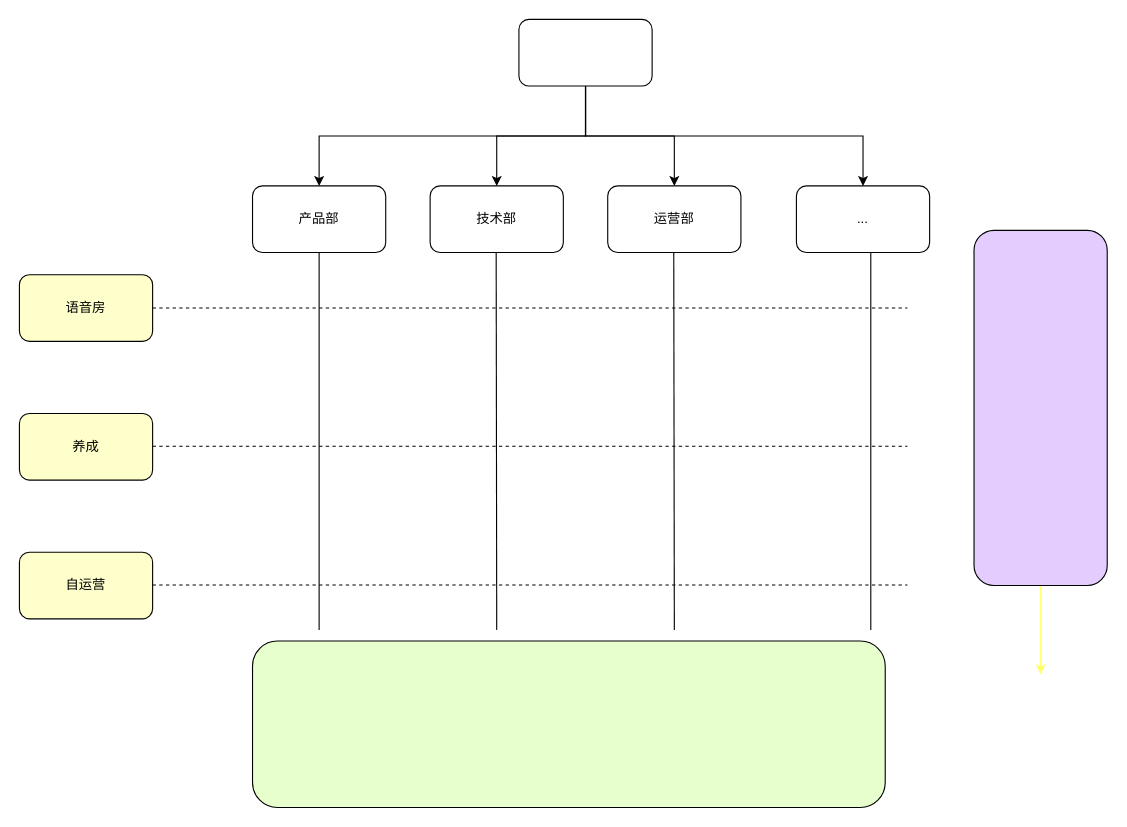
This 1127x827 diagram has some shape labels left out. Each missing label, with the centre of its shape:
CEO/CPO: point (585, 52)
增长黑客: point (1040, 407)
海外: point (568, 724)
